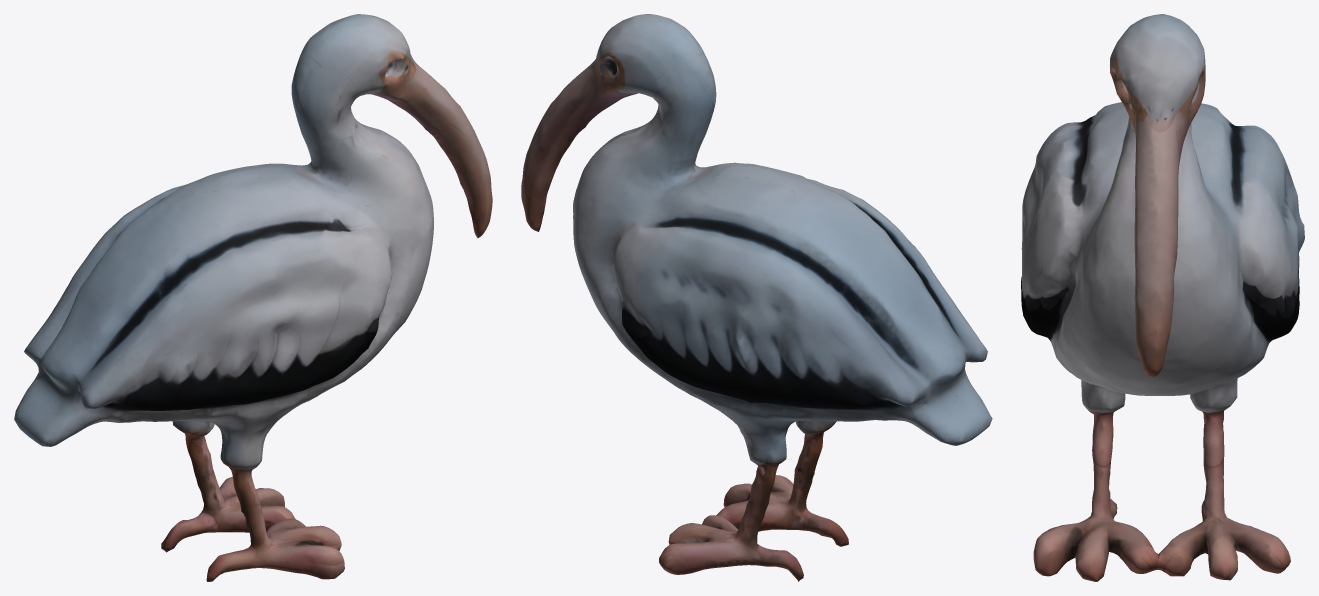
File: A_cartoon_ibis_0505162018_refine.fbx
3 views of the same model, side by side, from view 1: azimuth 30°, elevation 25°; view 2: azimuth 150°, elevation 25°; view 3: azimuth 270°, elevation 25° (orthographic). The views are drawn at different scales.
Visible parts, largest first — view 1: Mesh_0; view 2: Mesh_0; view 3: Mesh_0.
Part boxes in pixels (<box>): Mesh_0: <box>14,14,492,581</box>; Mesh_0: <box>521,14,992,581</box>; Mesh_0: <box>1021,14,1304,581</box>.
Size of the model in its own units: 114 by 120 by 51.69.
Materials: 1 (1 with a texture image).
